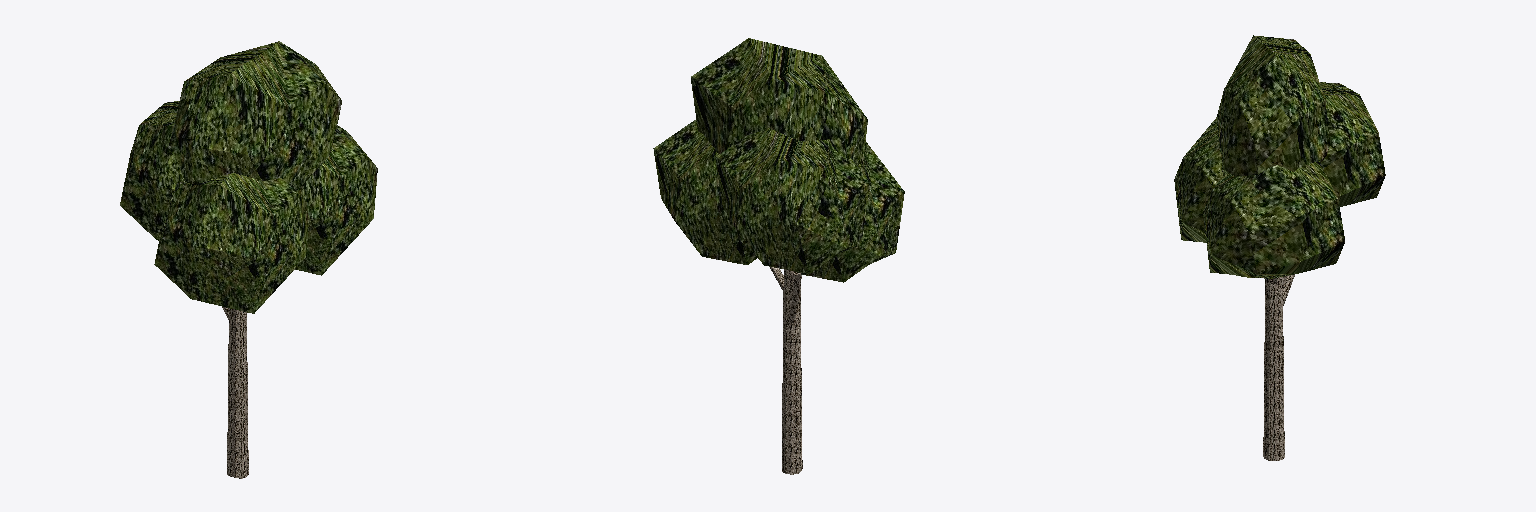
The picture shows the model from 3 angles: view 1: azimuth 30°, elevation 25°; view 2: azimuth 150°, elevation 25°; view 3: azimuth 270°, elevation 25°; orthographic projection.
Bounding box in the file's own units: 13.38 × 25.22 × 11.45.
Materials: 2 (2 with a texture image).